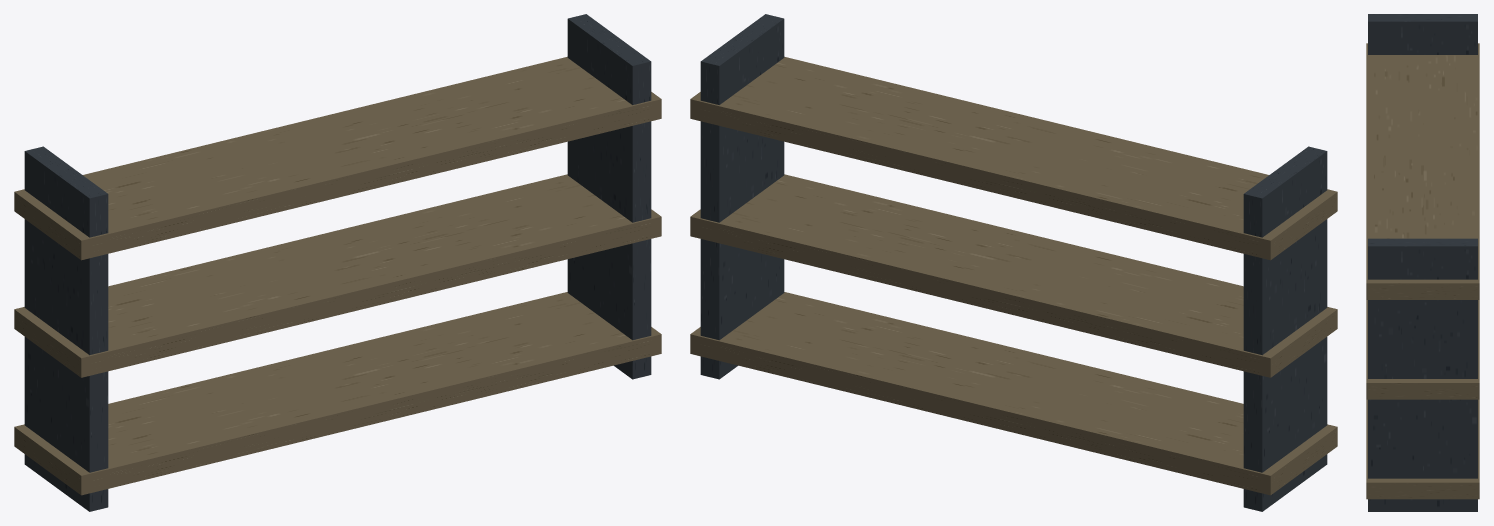
Rendered from DeskShelf.fbx.
3 renders of one model, left to right at view 1: azimuth 30°, elevation 25°; view 2: azimuth 150°, elevation 25°; view 3: azimuth 270°, elevation 25°, orthographic. The views are drawn at different scales.
Parts seen in each view (by area): view 1: DeskShelf; view 2: DeskShelf; view 3: DeskShelf.
Part boxes in pixels (x1=…): DeskShelf: x1=14, y1=14, x2=661, y2=511; DeskShelf: x1=690, y1=14, x2=1337, y2=511; DeskShelf: x1=1366, y1=14, x2=1479, y2=511.
Size of the model in its own units: 310 by 160 by 62.
